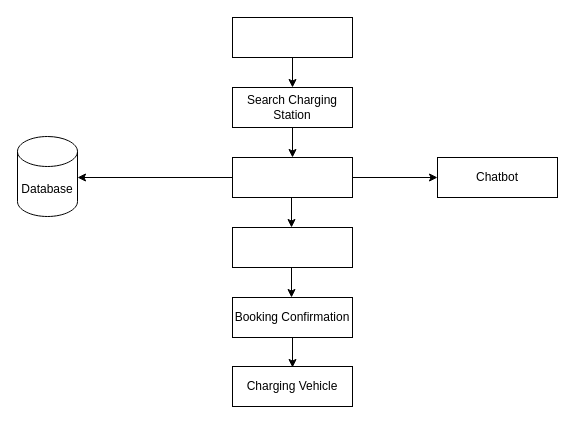
Image size: 575x424. Some labels were removed from this diagram. The centre of each missing label's shape, as x and y in pixels:
Book Charging Slot: (x=292, y=177)
Payment: (x=292, y=247)
User: (x=292, y=37)
